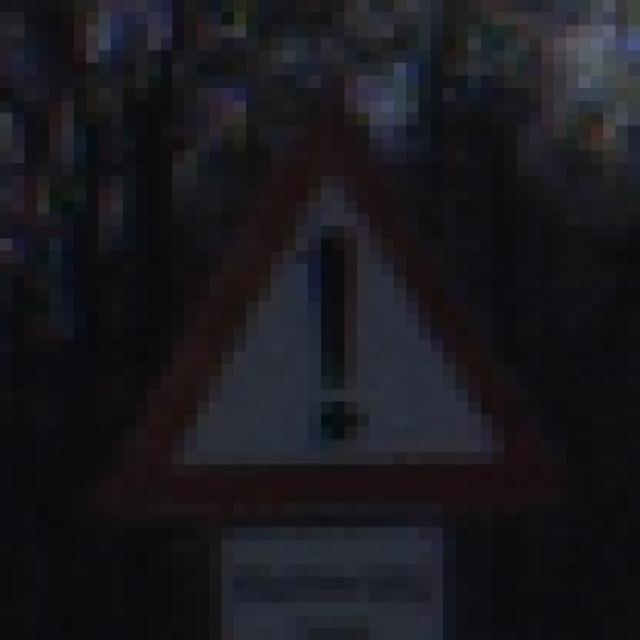Attention Please-: (73, 113, 578, 541)
